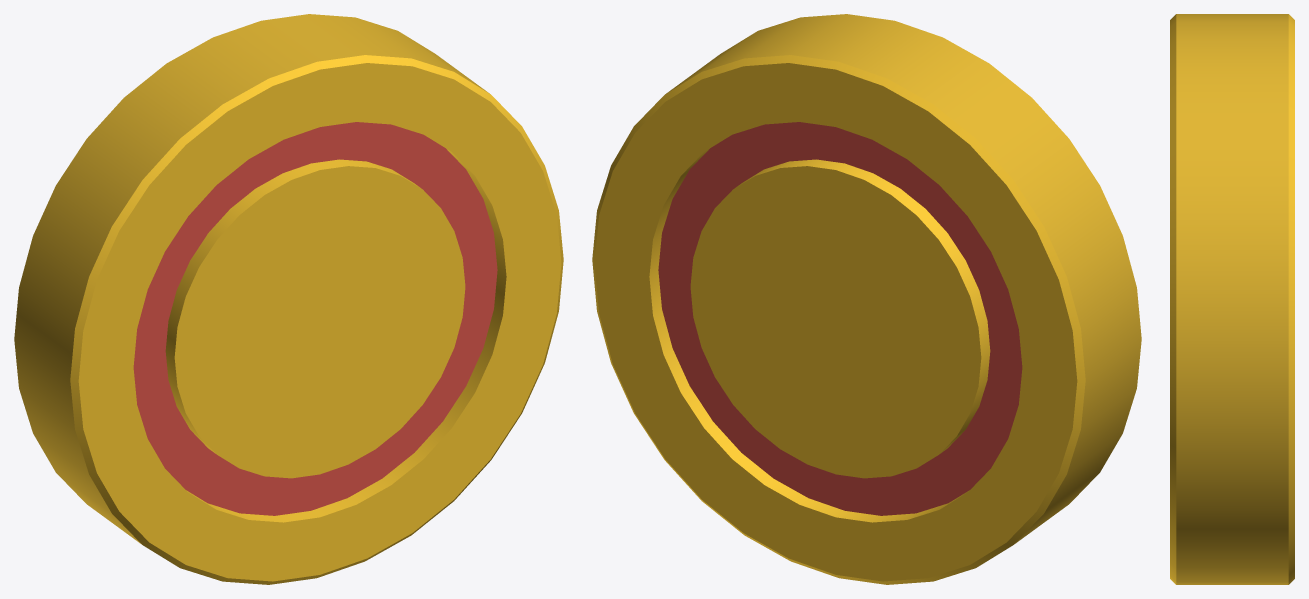
File: coin3d.FBX
3 views of the same model, side by side, from view 1: azimuth 30°, elevation 25°; view 2: azimuth 150°, elevation 25°; view 3: azimuth 270°, elevation 25° (orthographic).
Visible parts, largest first — view 1: Coin3d; view 2: Coin3d; view 3: Coin3d.
Part boxes in pixels (left/top/right/bottom): Coin3d: left=14, top=14, right=563, bottom=584; Coin3d: left=592, top=14, right=1141, bottom=584; Coin3d: left=1170, top=14, right=1294, bottom=584.
Bounding box in the file's own units: 134 × 134 × 29.28.
